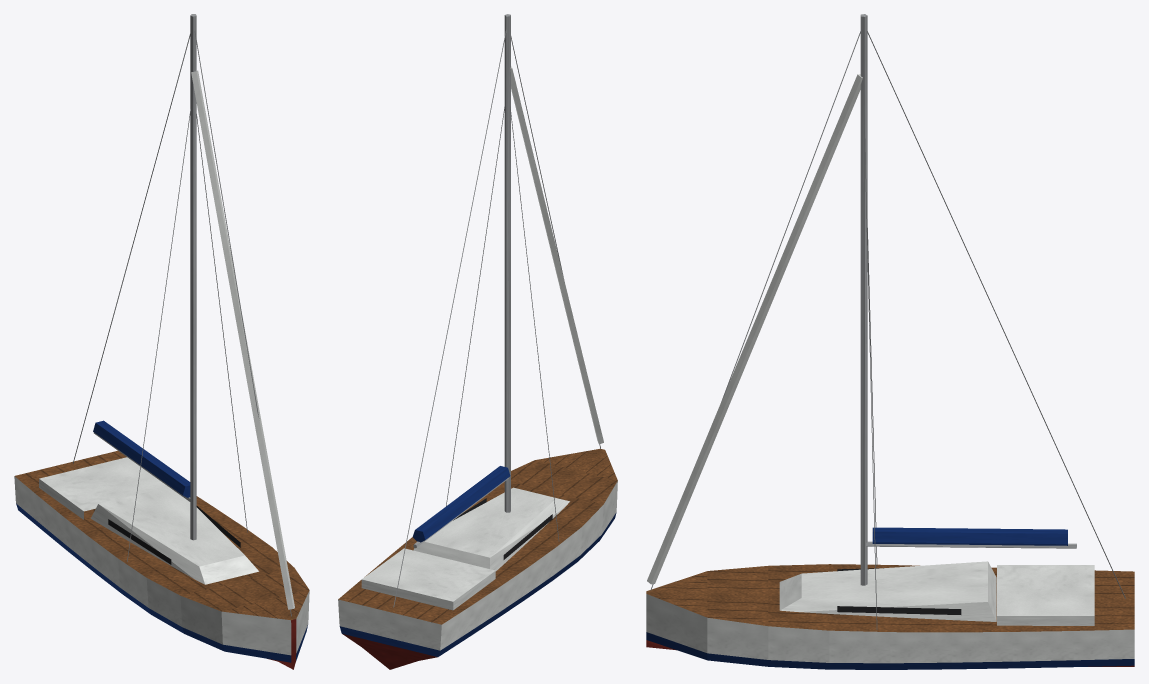
File: SM_Mirabello_YachtB_v2_LOD1.fbx
The picture shows the model from 3 angles, left to right: view 1: azimuth 30°, elevation 25°; view 2: azimuth 150°, elevation 25°; view 3: azimuth 270°, elevation 25°; orthographic projection. The views are drawn at different scales.
Visible parts, largest first — view 1: SM_Mirabello_YachtB_v2_LOD1; view 2: SM_Mirabello_YachtB_v2_LOD1; view 3: SM_Mirabello_YachtB_v2_LOD1.
Boxes of the visible parts, box(x1,y1,x2,y2) form: SM_Mirabello_YachtB_v2_LOD1: box(14, 14, 309, 669); SM_Mirabello_YachtB_v2_LOD1: box(338, 14, 617, 669); SM_Mirabello_YachtB_v2_LOD1: box(646, 14, 1134, 669).
Bounding box in the file's own units: 358 × 1100 × 1620.
1 material, 1 textured.
